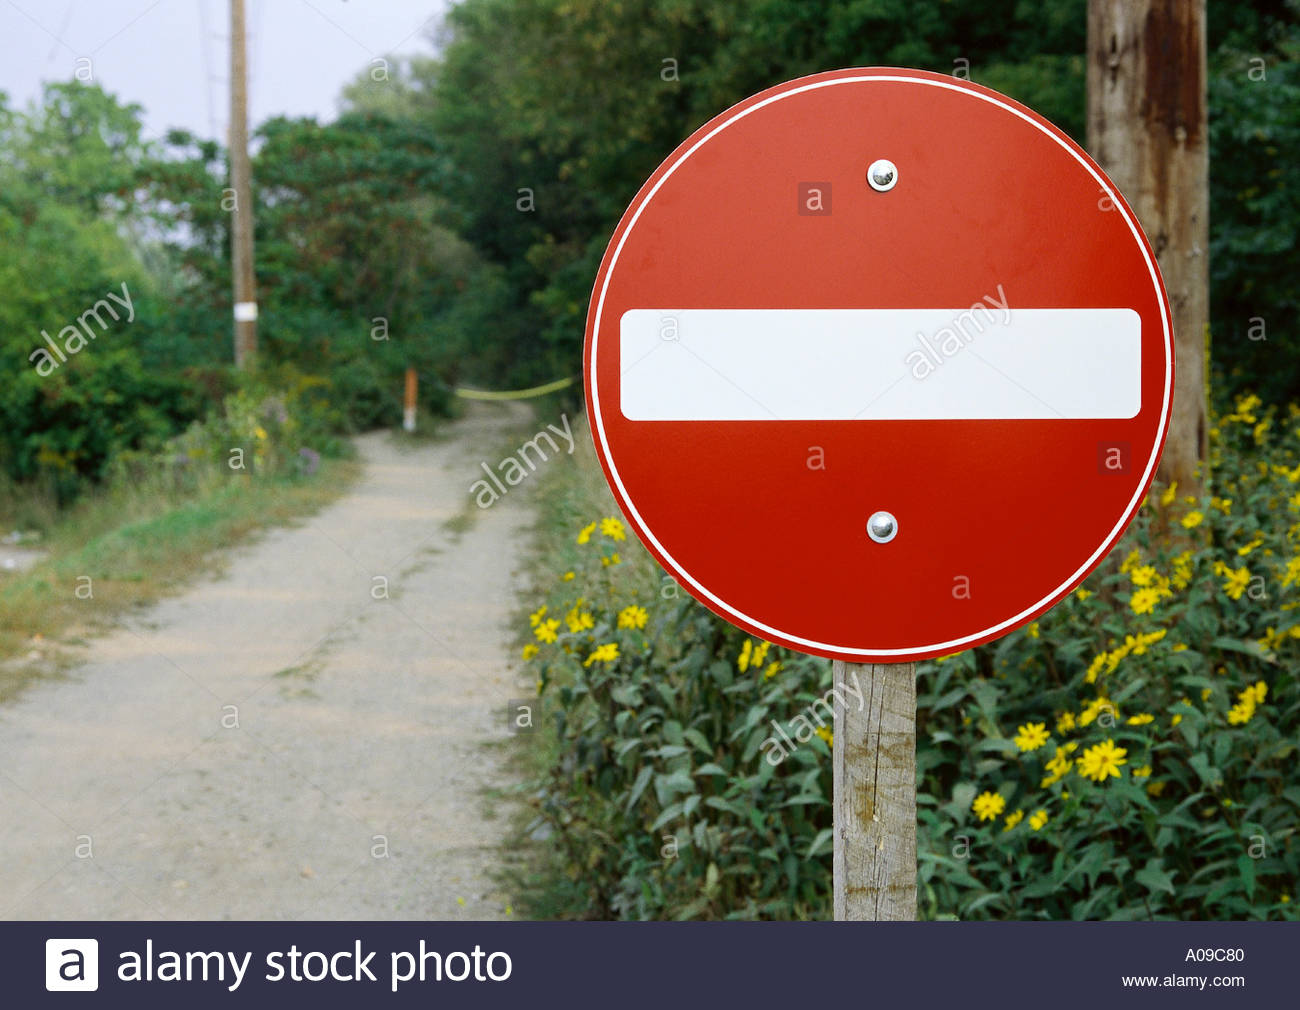No_entry: (584, 68, 1181, 666)
